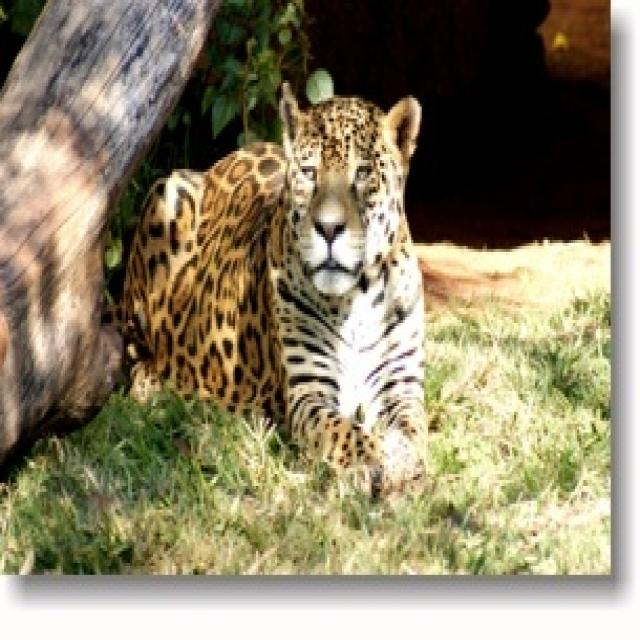Leopard: (118, 74, 430, 483)
